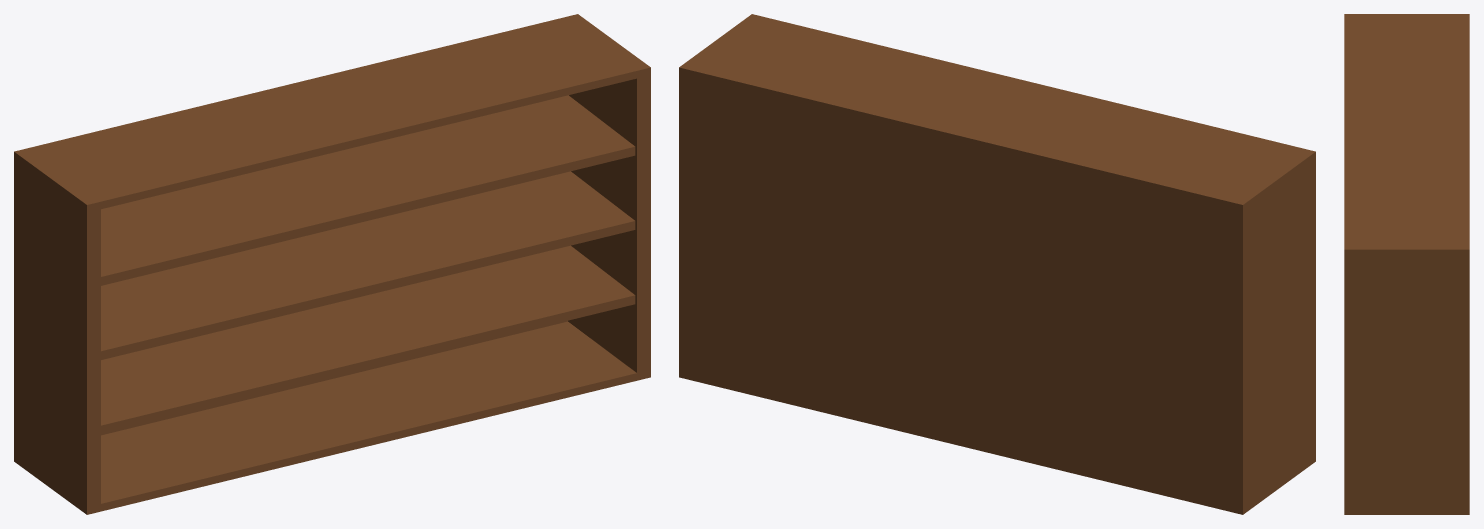
Rendered from SmallWideShelves.fbx.
3 views of the same model, side by side, from view 1: azimuth 30°, elevation 25°; view 2: azimuth 150°, elevation 25°; view 3: azimuth 270°, elevation 25° (orthographic). The views are drawn at different scales.
Parts seen in each view (by area): view 1: Cube; view 2: Cube; view 3: Cube.
Boxes of the visible parts, x1,y1,x2,y2 form: Cube: (14, 14, 650, 514); Cube: (679, 14, 1315, 514); Cube: (1344, 14, 1469, 514).
Size of the model in its own units: 1305 by 685 by 293.
